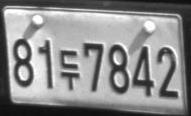1: (36, 39, 58, 88)
2: (155, 46, 179, 98)
4: (131, 45, 154, 97)
7: (83, 42, 104, 91)
8: (108, 43, 130, 94), (12, 38, 34, 88)
두: (59, 49, 80, 90)
